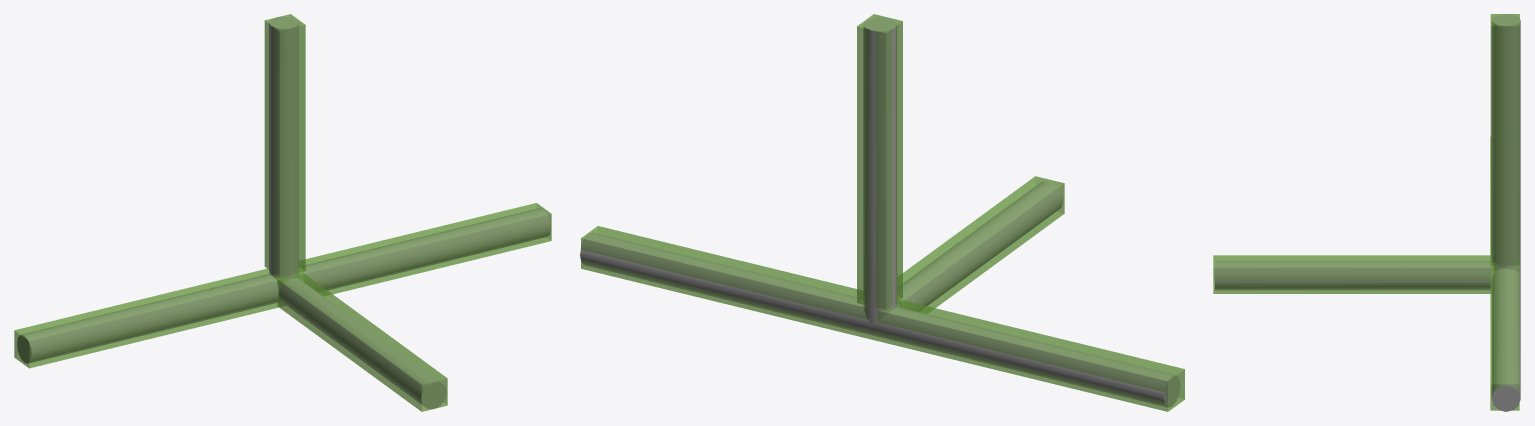
Rendered from M_md_StallBeam1_50cm_05.fbx.
The picture shows the model from 3 angles, left to right: view 1: azimuth 30°, elevation 25°; view 2: azimuth 150°, elevation 25°; view 3: azimuth 270°, elevation 25°; orthographic projection. The views are drawn at different scales.
Visible parts, largest first — view 1: M_md_StallBeam1_50cm_05_LOD0, M_md_StallBeam1_50cm_05_col_02, M_md_StallBeam1_50cm_05_col_01, M_md_StallBeam1_50cm_05_col_03; view 2: M_md_StallBeam1_50cm_05_LOD0, M_md_StallBeam1_50cm_05_col_02, M_md_StallBeam1_50cm_05_col_01, M_md_StallBeam1_50cm_05_col_03; view 3: M_md_StallBeam1_50cm_05_LOD0, M_md_StallBeam1_50cm_05_col_03, M_md_StallBeam1_50cm_05_col_01, M_md_StallBeam1_50cm_05_col_02.
Part boxes in pixels (x1,y1,x2,y2): M_md_StallBeam1_50cm_05_LOD0: (17,16,550,409); M_md_StallBeam1_50cm_05_col_02: (14,203,551,368); M_md_StallBeam1_50cm_05_col_01: (264,14,305,277); M_md_StallBeam1_50cm_05_col_03: (277,273,447,411); M_md_StallBeam1_50cm_05_LOD0: (580,17,1180,407); M_md_StallBeam1_50cm_05_col_02: (581,226,1184,411); M_md_StallBeam1_50cm_05_col_01: (857,14,902,309); M_md_StallBeam1_50cm_05_col_03: (897,176,1064,313); M_md_StallBeam1_50cm_05_LOD0: (1215,14,1520,411); M_md_StallBeam1_50cm_05_col_03: (1213,255,1493,293); M_md_StallBeam1_50cm_05_col_01: (1490,14,1519,265); M_md_StallBeam1_50cm_05_col_02: (1490,137,1519,410).
Size of what is drawn, in the model's own units: 101 by 50.94 by 52.8.
